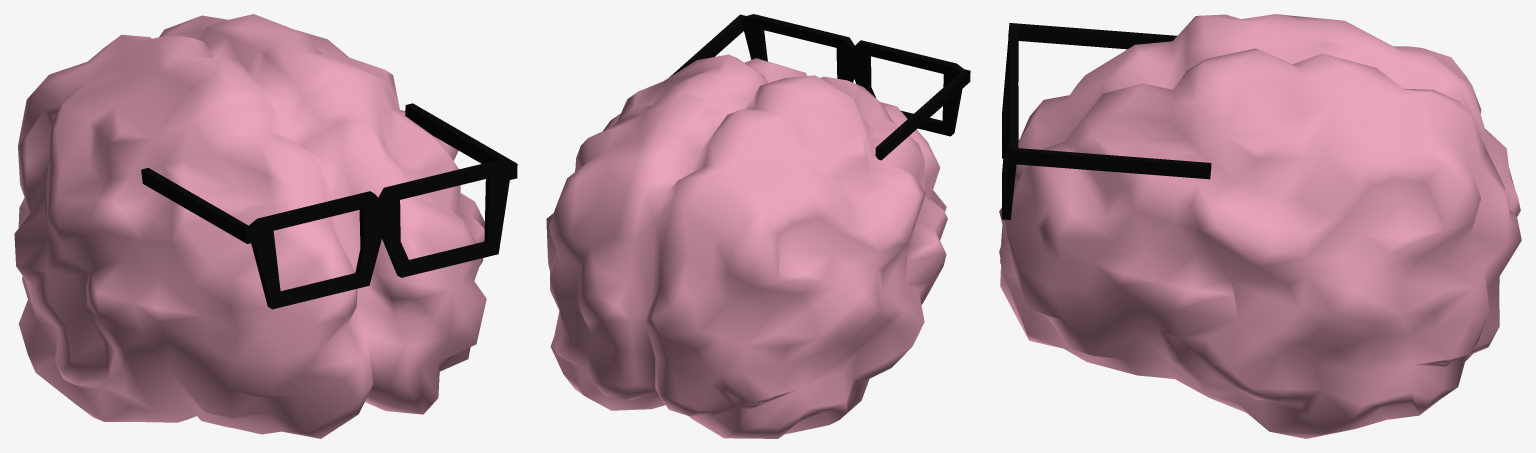
File: BrainRef.fbx
3 views of the same model, side by side, from view 1: azimuth 30°, elevation 25°; view 2: azimuth 150°, elevation 25°; view 3: azimuth 270°, elevation 25° (orthographic). The views are drawn at different scales.
Parts seen in each view (by area): view 1: BrainRefModel; view 2: BrainRefModel; view 3: BrainRefModel.
Boxes of the visible parts, box(x1,y1,x2,y2) form: BrainRefModel: box(14, 14, 517, 438); BrainRefModel: box(546, 14, 970, 438); BrainRefModel: box(999, 14, 1521, 438).
Bounding box in the file's own units: 17.24 × 15.36 × 20.68.
